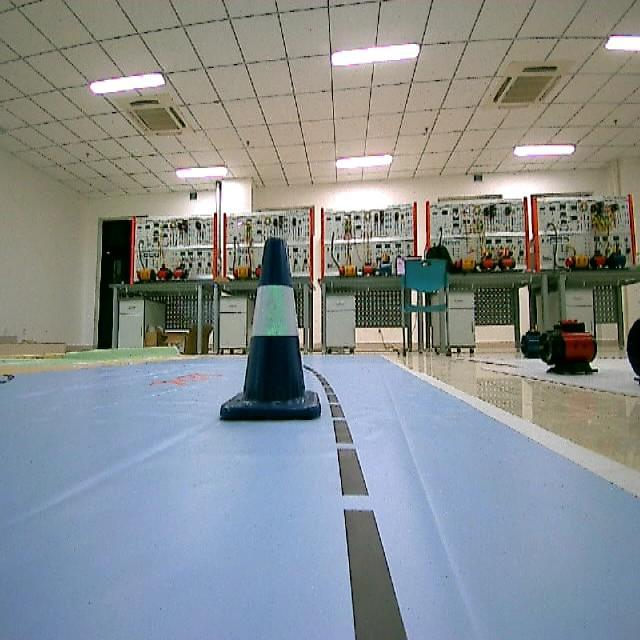obstacle: (221, 239, 321, 425)
